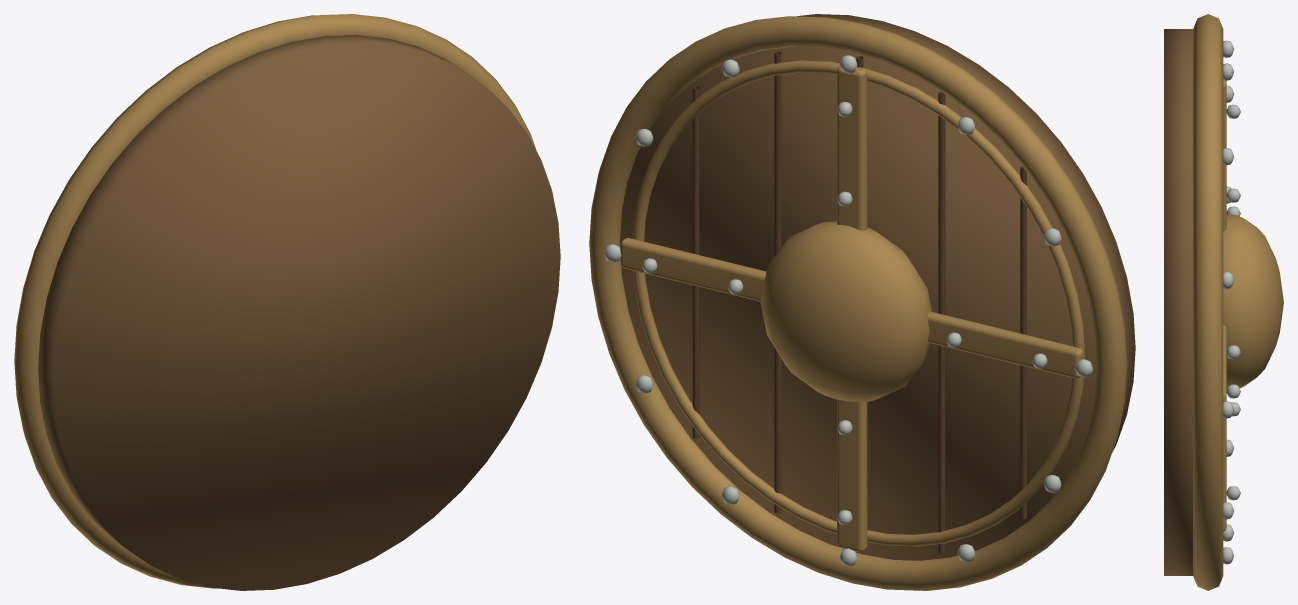
File: rider_shield.glb
The picture shows the model from 3 angles, left to right: view 1: azimuth 30°, elevation 25°; view 2: azimuth 150°, elevation 25°; view 3: azimuth 270°, elevation 25°; orthographic projection. The views are drawn at different scales.
Visible parts, largest first — view 1: Rider shield; view 2: Rider shield; view 3: Rider shield.
Boxes of the visible parts, box(x1,y1,x2,y2) form: Rider shield: box(14, 14, 560, 590); Rider shield: box(589, 14, 1135, 590); Rider shield: box(1164, 14, 1283, 590).
Size of the model in its own units: 0.686 by 0.686 by 0.1425.
